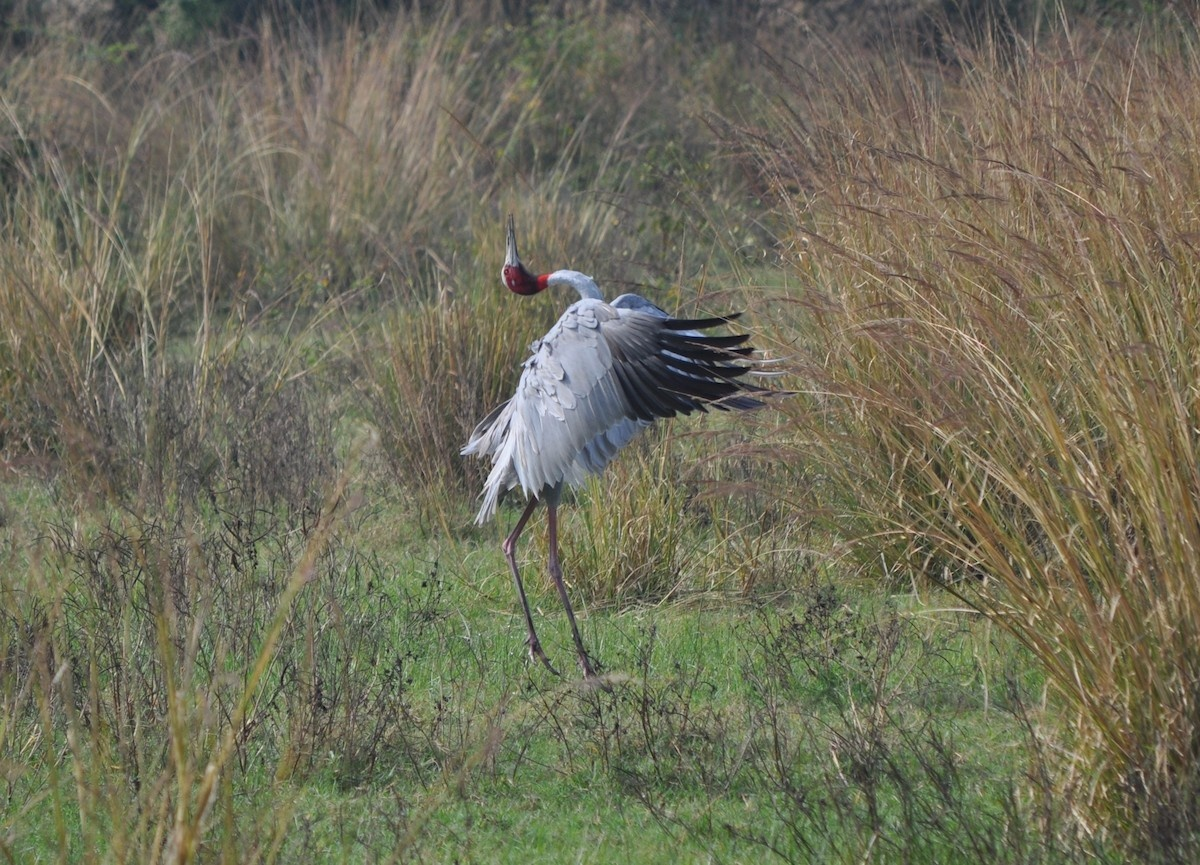crane: (479, 200, 752, 670)
